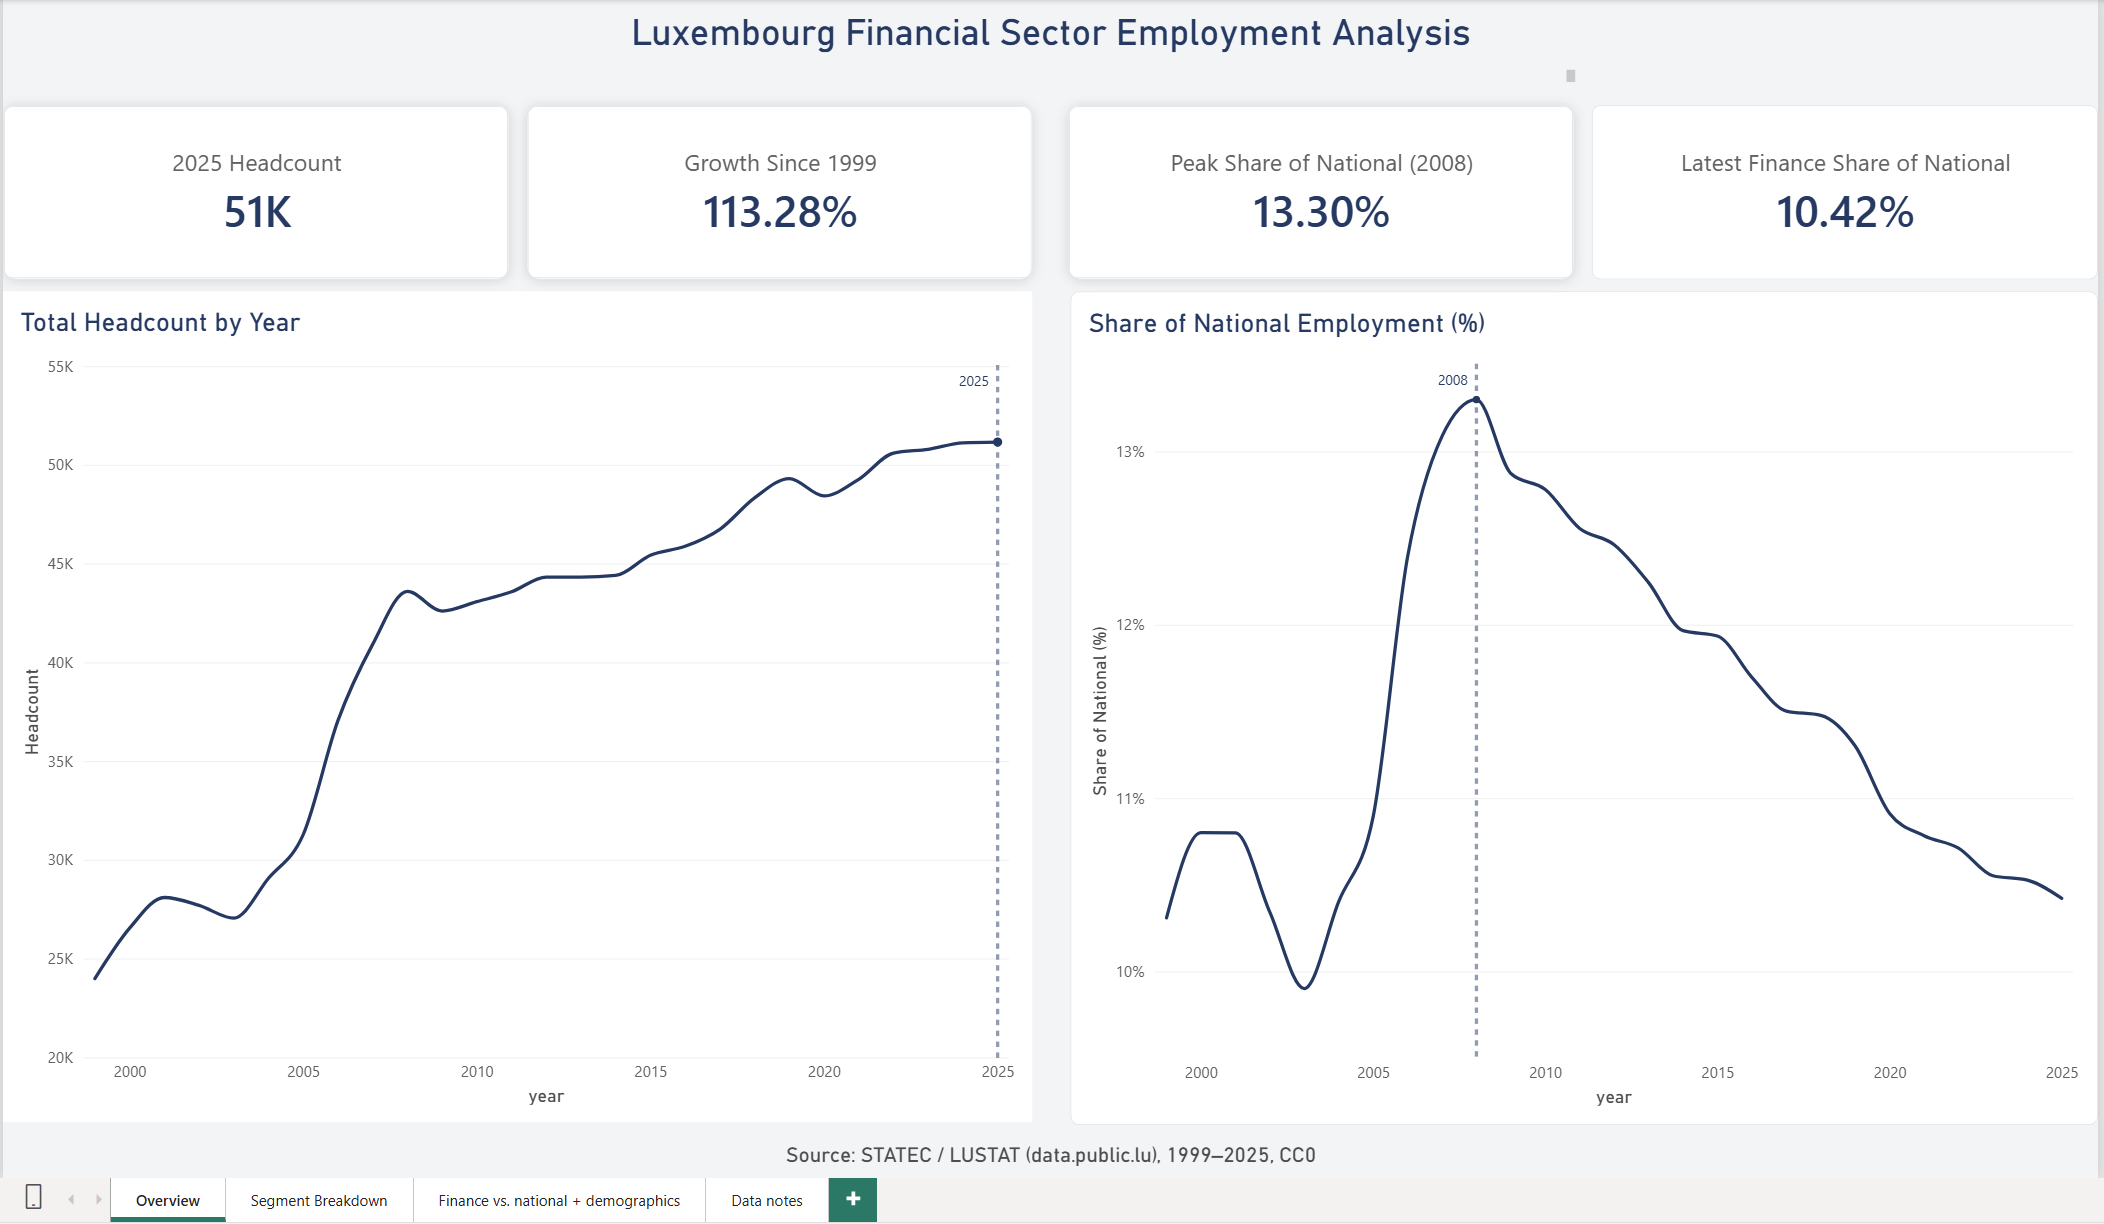

The dashboard page shown, as its layout file describes it:
{"tool":"powerbi","page":{"name":"Overview","canvas":[1920,1080],"ordinal":0},"visuals":[{"type":"lineChart","title":"Total Headcount by Year","fields":{"Category":["vw_total_headcount_trend.year"],"Y":["Sum(vw_total_headcount_trend.total_sector_headcount)"]},"box":[0,266.9,943.5,761.8],"z":0},{"type":"lineChart","title":"Share of National Employment (%)","fields":{"Category":["vw_finance_vs_national.year"],"Y":["Sum(vw_finance_vs_national.finance_pct_of_national)"]},"box":[978.7,266.9,941.7,763.7],"z":1000},{"type":"textbox","title":"Luxembourg Financial Sector Employment Analysis","box":[479.7,10.5,961,64.5],"z":2000},{"type":"cardVisual","fields":{"Data":["vw_finance_vs_national.Peak Share of National"]},"box":[976,96,464,160],"z":3000},{"type":"cardVisual","title":"2025 Headcount","fields":{"Data":["vw_total_headcount_trend.Peak Year Headcount"]},"box":[0,96,464,160],"z":4000},{"type":"cardVisual","fields":{"Data":["vw_total_headcount_trend.Growth Since 1999"]},"box":[480,96,464,160],"z":5000},{"type":"cardVisual","fields":{"Data":["vw_finance_vs_national.Latest Finance Share of National"]},"box":[1456,96,464,160],"z":6000},{"type":"textbox","title":"Source: STATEC / LUSTAT (data.public.lu), 1999–2025, CC0","box":[700.8,1047.3,518.9,32.5],"z":7000}]}

Visuals, with their boxes on the page's 1920x1080 design canvas (x1, y1, x2, y2). These are canvas units, not pixel positions in the 2104x1224 screenshot, which may show the page scaled, cropped or inside an application window:
"Total Headcount by Year" lineChart: (0, 267, 944, 1029)
"Share of National Employment (%)" lineChart: (979, 267, 1920, 1031)
"Luxembourg Financial Sector Employment Analysis" textbox: (480, 10, 1441, 75)
cardVisual - vw_finance_vs_national.Peak Share of National: (976, 96, 1440, 256)
"2025 Headcount" cardVisual: (0, 96, 464, 256)
cardVisual - vw_total_headcount_trend.Growth Since 1999: (480, 96, 944, 256)
cardVisual - vw_finance_vs_national.Latest Finance Share of National: (1456, 96, 1920, 256)
"Source: STATEC / LUSTAT (data.public.lu), 1999–2025, CC0" textbox: (701, 1047, 1220, 1080)
